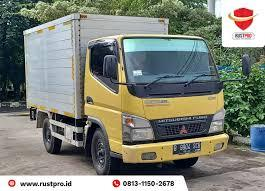truck: (76, 28, 239, 173)
